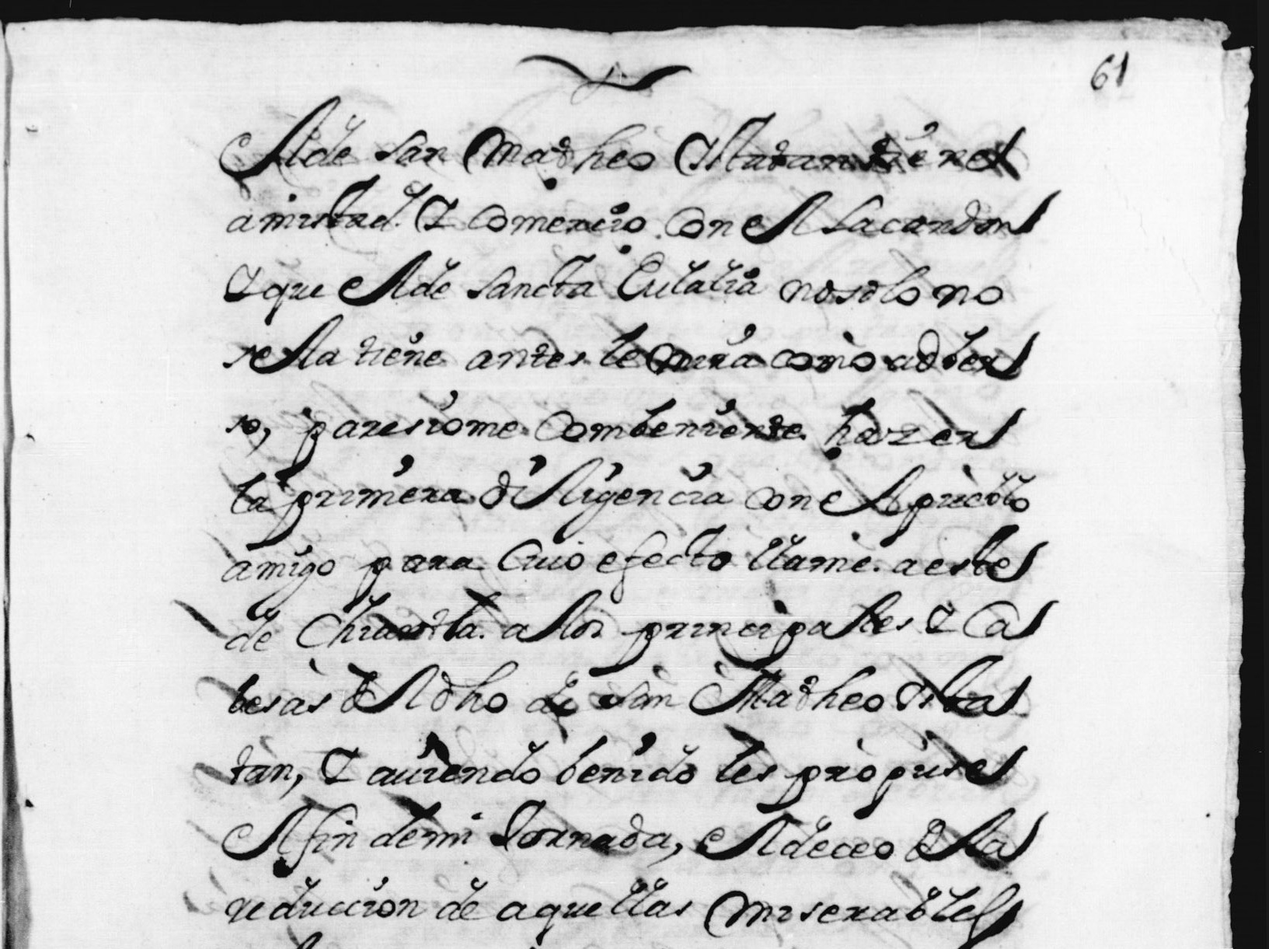lacandon: (821, 190, 1060, 236)
